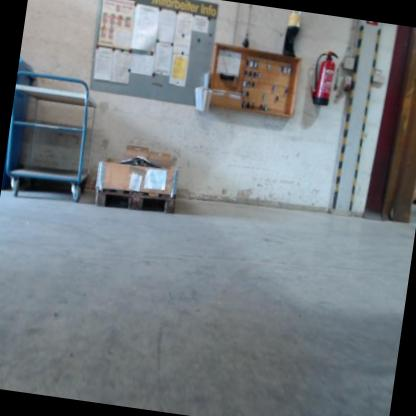pallet: (93, 183, 178, 218)
